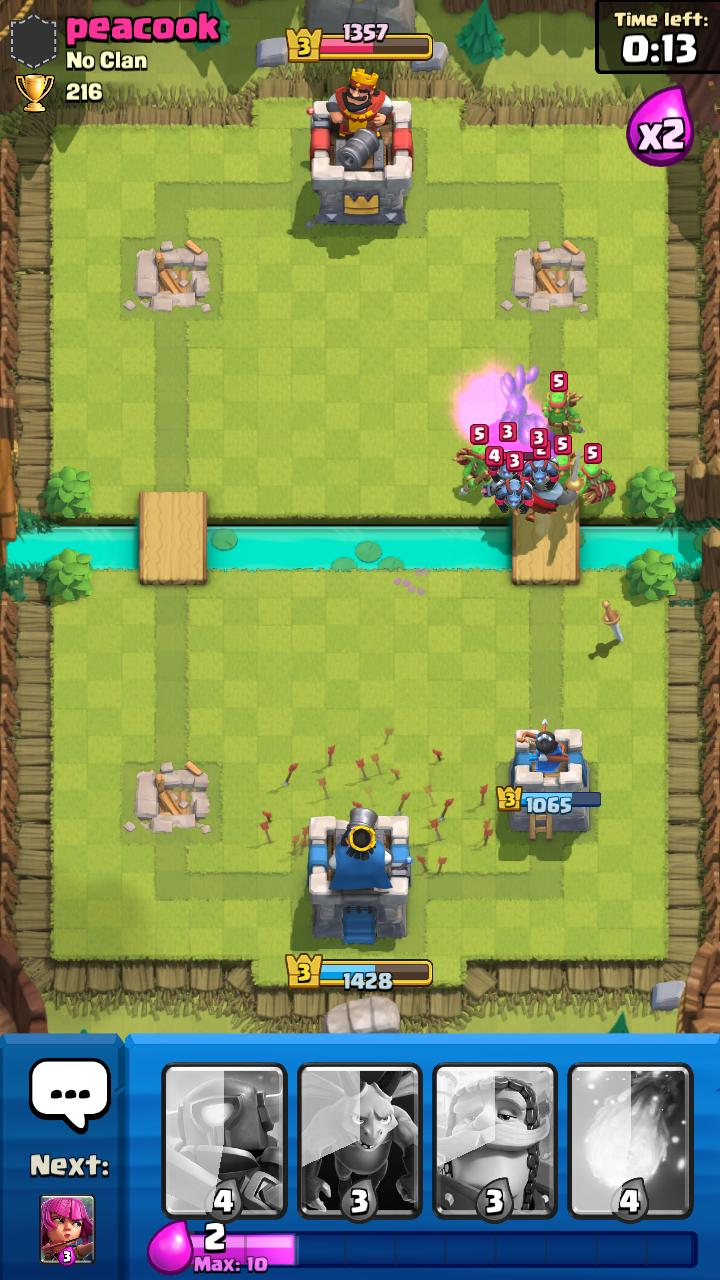enemy: (512, 439, 581, 523), (481, 446, 540, 504), (452, 424, 491, 495), (542, 371, 585, 435), (494, 451, 534, 514), (578, 443, 617, 506), (521, 428, 559, 490), (551, 435, 586, 491), (488, 422, 521, 481)
